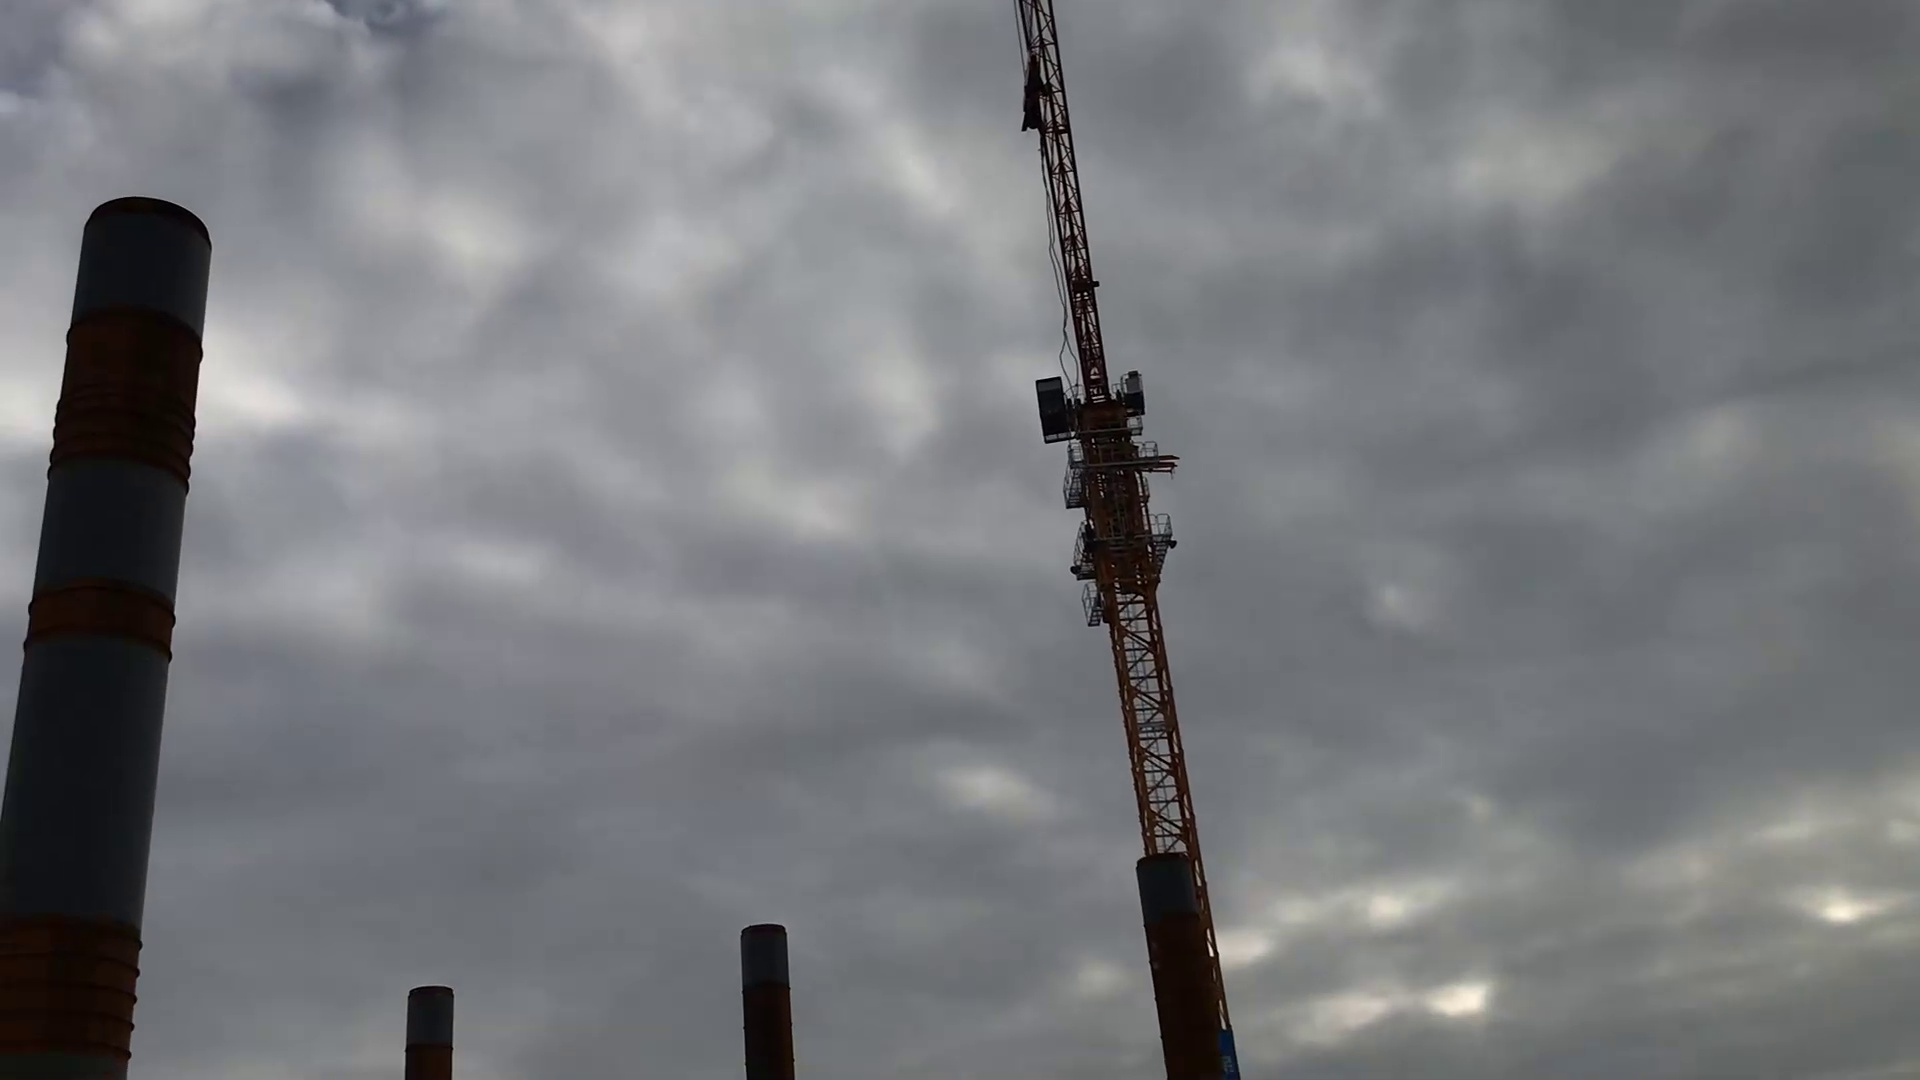hook: (1011, 55, 1047, 128)
